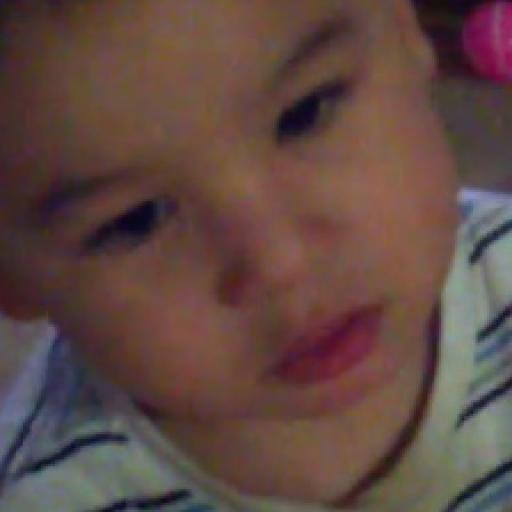Autism: (11, 12, 470, 448)
